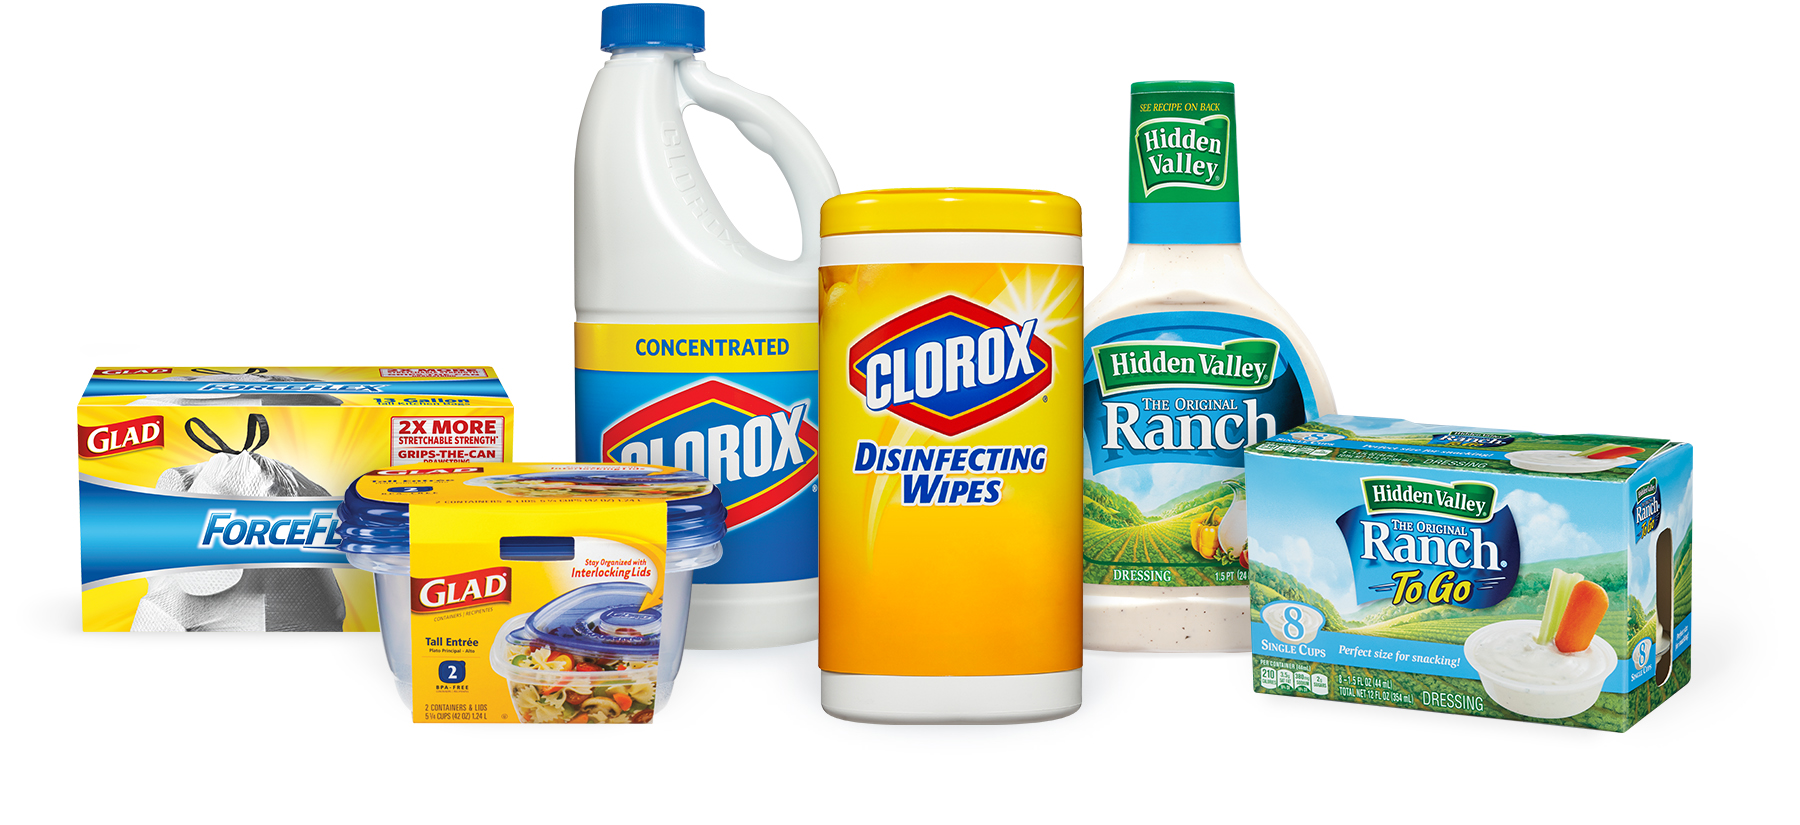Wipes: (805, 177, 1093, 733)
